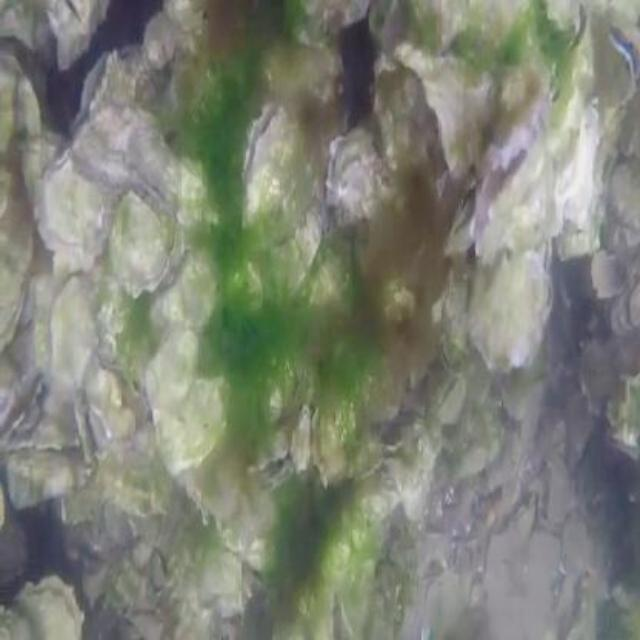Oyster-Closed: (146, 246, 242, 474), (306, 391, 386, 492)
Oyster-Open: (446, 0, 590, 264), (29, 108, 154, 260), (368, 38, 488, 194), (447, 236, 553, 374), (236, 93, 312, 225), (72, 39, 162, 135), (0, 366, 80, 458), (324, 124, 386, 226), (4, 573, 84, 640), (0, 218, 34, 358), (43, 0, 109, 70), (230, 424, 296, 494), (69, 388, 113, 480), (600, 162, 640, 250), (604, 17, 640, 97), (432, 368, 470, 424), (609, 278, 640, 335)
